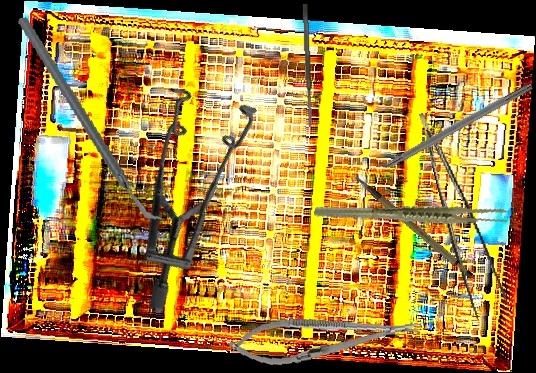Chopper: (16, 0, 166, 241)
Hook Surgical: (360, 80, 534, 183)
Needle Holder: (227, 305, 421, 371)
Scalpel Handle: (354, 159, 476, 292)
Spatula Surgical: (301, 3, 314, 128)
Speculum: (50, 55, 318, 318)
Tissue Forceps: (419, 104, 511, 327), (313, 170, 510, 257)
